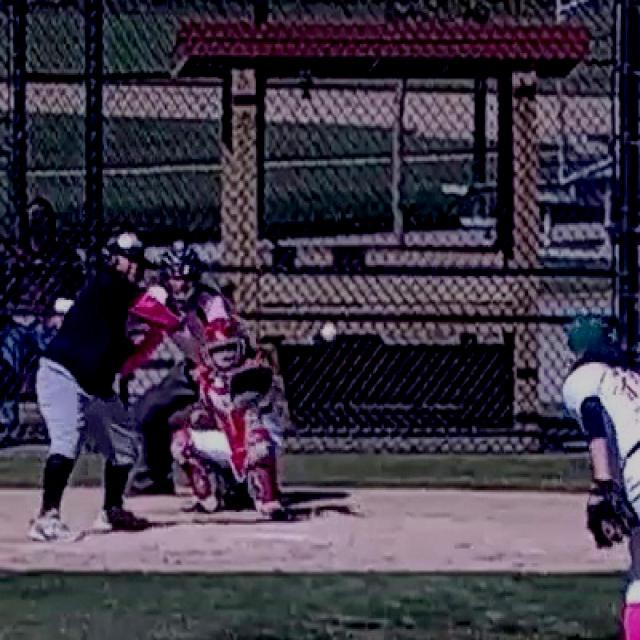baseball: (321, 323, 337, 341)
